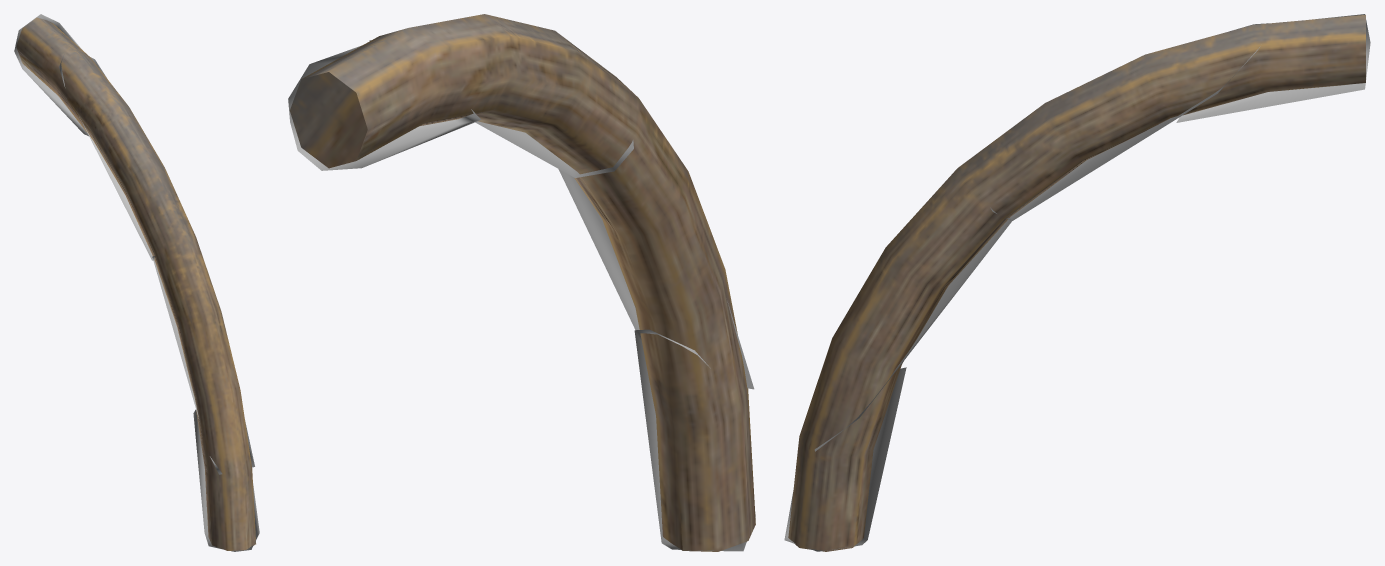
The model's file is SM_Wheel_Part.gltf.
The picture shows the model from 3 angles, left to right: view 1: azimuth 30°, elevation 25°; view 2: azimuth 150°, elevation 25°; view 3: azimuth 270°, elevation 25°; orthographic projection. The views are drawn at different scales.
Parts seen in each view (by area): view 1: SM_Wheel_Part_LOD0, SM_Wheel_Part_ConvexHulls; view 2: SM_Wheel_Part_LOD0, SM_Wheel_Part_ConvexHulls; view 3: SM_Wheel_Part_LOD0, SM_Wheel_Part_ConvexHulls.
Part boxes in pixels (x1,y1,x2,y2): SM_Wheel_Part_LOD0: (16,17,255,550); SM_Wheel_Part_ConvexHulls: (14,14,259,551); SM_Wheel_Part_LOD0: (290,14,755,551); SM_Wheel_Part_ConvexHulls: (288,40,755,551); SM_Wheel_Part_LOD0: (788,14,1365,551); SM_Wheel_Part_ConvexHulls: (784,14,1370,551).
Size of what is drawn, in the model's own units: 0.0854 by 0.7493 by 0.7493.
